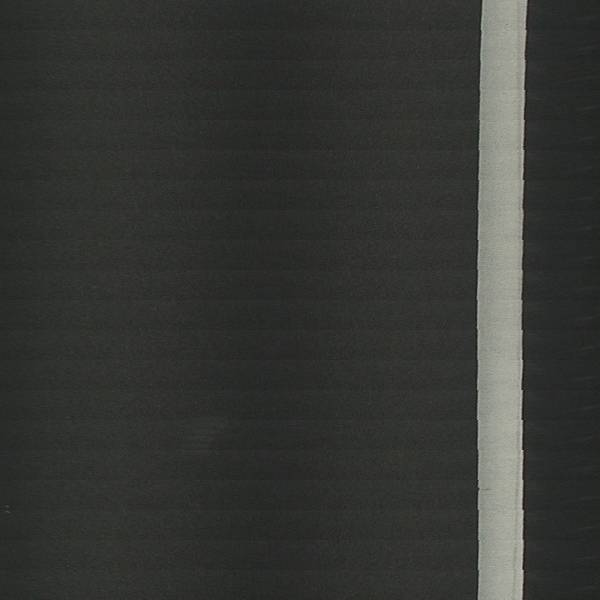road_damage: (168, 411, 232, 468)
